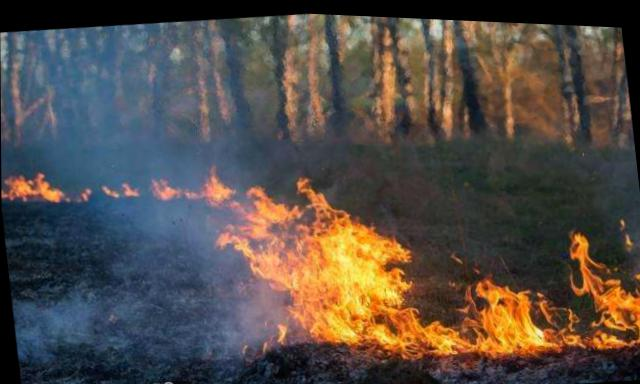fire: (0, 105, 639, 383)
